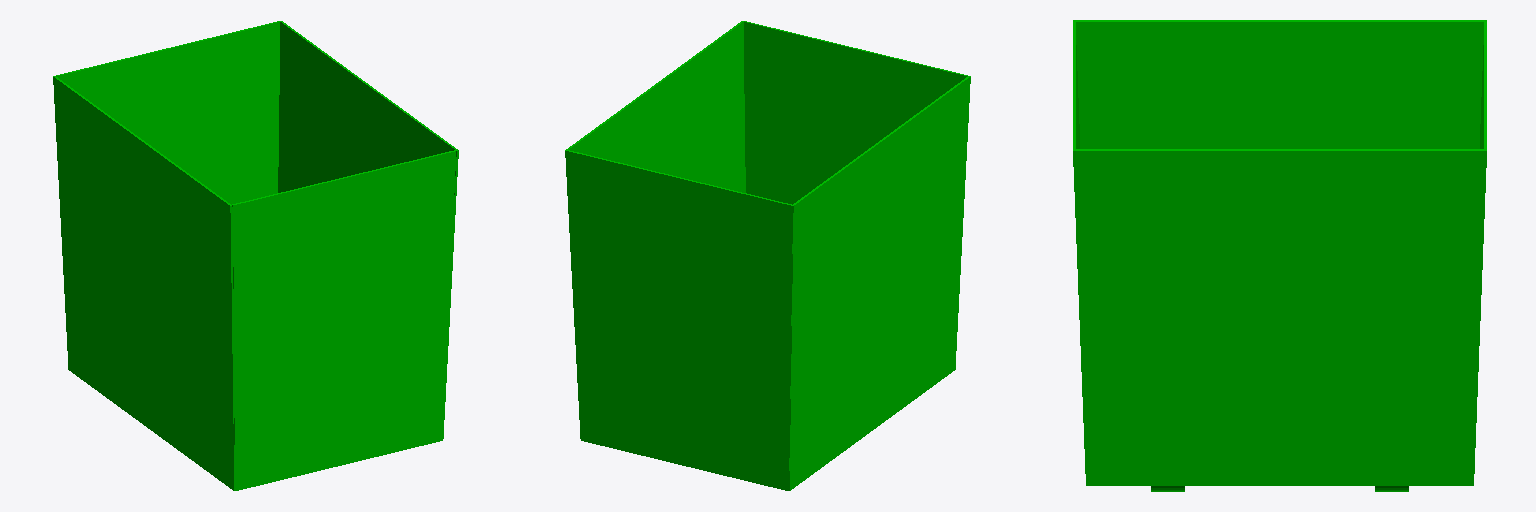
The robot description file, URDF, robot "green_bin":
<?xml version="1.0"?>
<robot name="green_bin">
<link name="green_bin">
    <visual>
      <geometry>
        <mesh filename="package://laas_objects/res/obj/green_bin.obj"/>
      </geometry>
      <origin rpy="1.57075 0 0" xyz="0 0 0"/>
      <material name="green">
        <color rgba="0 .8 0 1"/>
      </material>
    </visual>
    <collision>
      <geometry>
      <box size="0.28 0.36 0.055"/>
      </geometry>
      <origin rpy="0 0 0" xyz="0 0 -0.16"/>
      <contact_coefficients mu="1000.0" kp="0.00" kd="0.0"/>
    </collision>
    <collision>
      <geometry>
      <box size="0.27 0.3 0.005"/>
      </geometry>
      <origin rpy="1.57075 0 0" xyz="0 0.17 0"/>
      <contact_coefficients mu="1000.0" kp="0.00" kd="0.0"/>
    </collision>
    <collision>
      <geometry>
      <box size="0.27 0.3 0.005"/>
      </geometry>
      <origin rpy="1.57075 0 0" xyz="0 -0.17 0"/>
      <contact_coefficients mu="1000.0" kp="0.00" kd="0.0"/>
    </collision>
    <collision>
      <geometry>
      <box size="0.36 0.3 0.005"/>
      </geometry>
      <origin rpy="0 1.57075 0" xyz="-0.13 0 0"/>
      <contact_coefficients mu="1000.0" kp="0.00" kd="0.0"/>
    </collision>
    <collision>
      <geometry>
      <box size="0.36 0.3 0.005"/>
      </geometry>
      <origin rpy="0 1.57075 0" xyz="0.13 0 0"/>
      <contact_coefficients mu="1000.0" kp="0.00" kd="0.0"/>
    </collision>
    <inertial>
      <mass value="0.7"/>
      <inertia ixx="0.001" ixy="0.0" ixz="0.0" iyy="0.001" iyz="0.0" izz="0.001"/>
    </inertial>
</link>

</robot>

--- Facts derived from the render (not from the file) ---
The picture shows the robot from 3 angles, left to right: view 1: azimuth 30°, elevation 25°; view 2: azimuth 150°, elevation 25°; view 3: azimuth 270°, elevation 25°; orthographic projection.
Robot: green_bin — 1 links, 0 joints (none); root link green_bin; default pose: all joints at 0.
Links seen in each view (by area): view 1: green_bin; view 2: green_bin; view 3: green_bin.
Link boxes in pixels (x1,y1,x2,y2): green_bin: [53, 21, 458, 490]; green_bin: [565, 21, 970, 490]; green_bin: [1073, 20, 1486, 491].
Size in the robot's own frame: 0.2742 by 0.3692 by 0.3645 metres.
1 mesh visuals loaded from 1 distinct referenced files (1 OBJ).